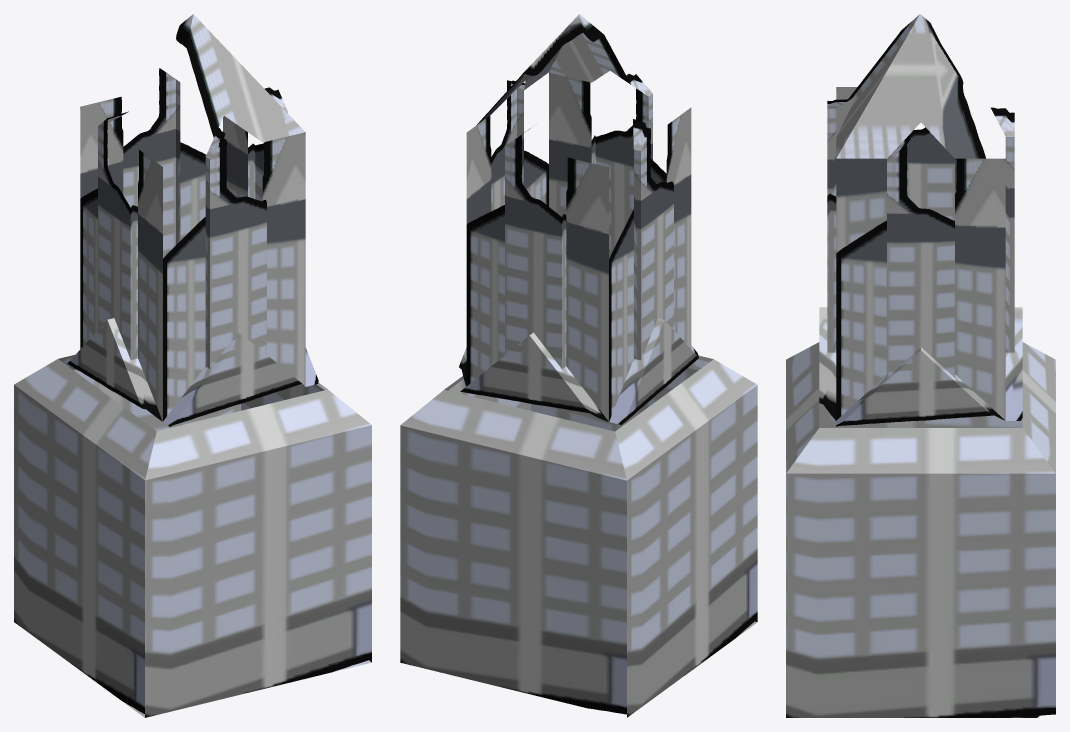
The model's file is Skyscraper@special.fbx.
3 renders of one model, left to right at view 1: azimuth 30°, elevation 25°; view 2: azimuth 150°, elevation 25°; view 3: azimuth 270°, elevation 25°, orthographic. The views are drawn at different scales.
Parts seen in each view (by area): view 1: skyscraper; view 2: skyscraper; view 3: skyscraper.
Part boxes in pixels (x1=…): skyscraper: x1=14, y1=14, x2=371, y2=717; skyscraper: x1=400, y1=14, x2=757, y2=717; skyscraper: x1=786, y1=14, x2=1055, y2=717.
Bounding box in the file's own units: 159 × 421 × 159.
